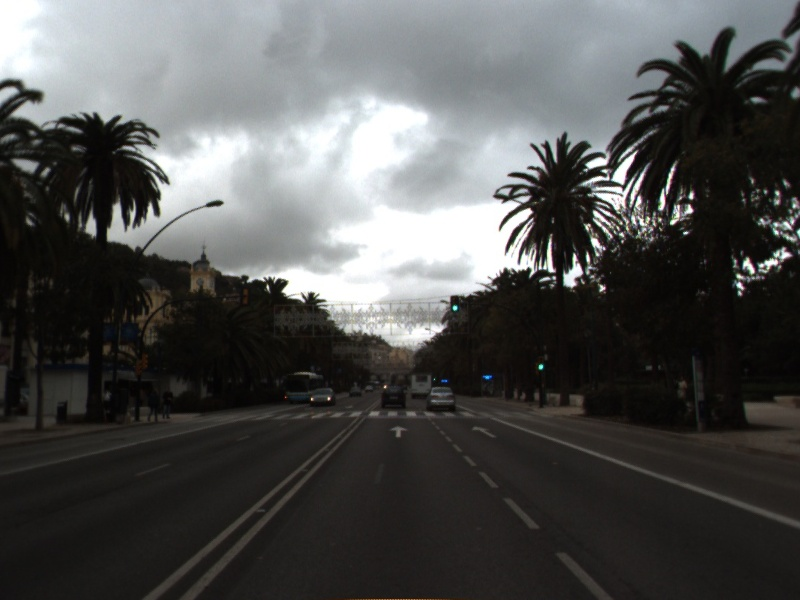STRAIGHT: (470, 424, 499, 440), (387, 424, 410, 440)
